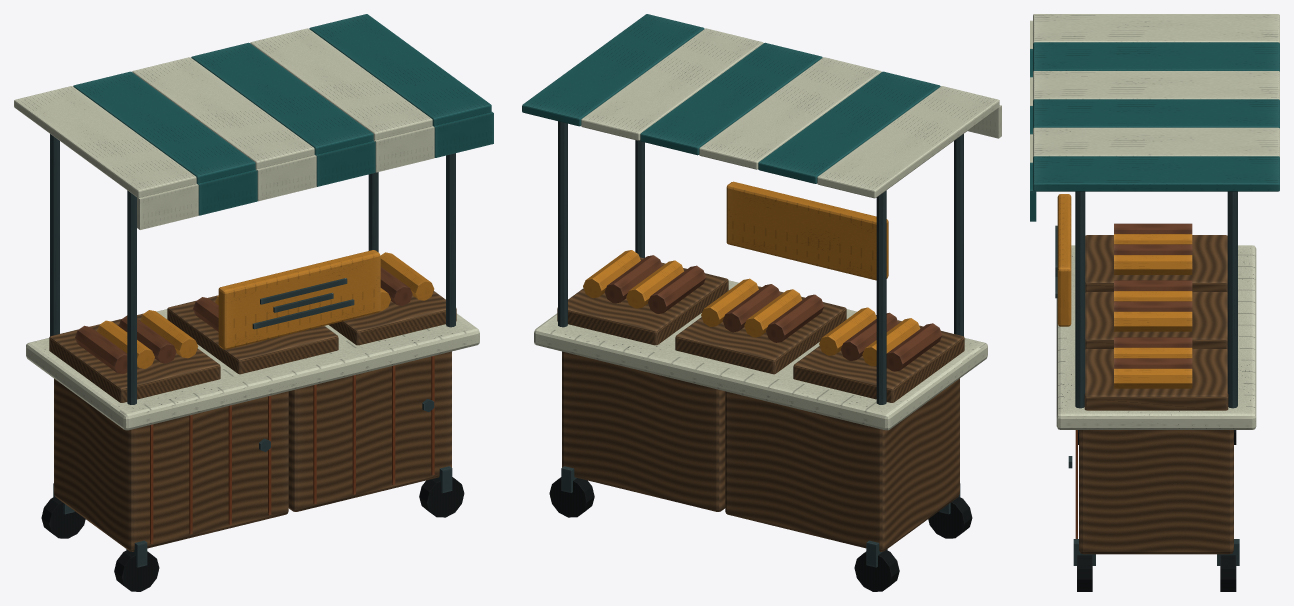
The model's file is market_stall.fbx.
3 views of the same model, side by side, from view 1: azimuth 30°, elevation 25°; view 2: azimuth 150°, elevation 25°; view 3: azimuth 270°, elevation 25° (orthographic).
Visible parts, largest first — view 1: market_stall__cupboard, market_stall__cupboard.001, market_stall__counter, market_stall__front_sale_sign, market_stall__canopy_fabric, market_stall__canopy_fabric.001, market_stall__canopy_fabric.004, market_stall__canopy_fabric.003, market_stall__canopy_fabric.002, market_stall__canopy_fabric.005, market_stall__produce_tray, market_stall__produce_tray.001 (+21 smaller); view 2: market_stall__cupboard, market_stall__cupboard.001, market_stall__counter, market_stall__front_sale_sign, market_stall__canopy_fabric, market_stall__canopy_fabric.005, market_stall__canopy_fabric.004, market_stall__canopy_fabric.001, market_stall__canopy_fabric.002, market_stall__canopy_fabric.003, market_stall__produce_tray.001, market_stall__produce_tray.002 (+20 smaller); view 3: market_stall__cupboard.001, market_stall__counter, market_stall__canopy_fabric.005, market_stall__canopy_fabric.004, market_stall__canopy_fabric.003, market_stall__canopy_fabric, market_stall__canopy_fabric.001, market_stall__canopy_fabric.002, market_stall__produce_tray.002, market_stall__produce_tray.001, market_stall__produce_tray, market_stall__canopy_post.002 (+16 smaller).
Part boxes in pixels (bbox=[...]): market_stall__cupboard: bbox=[54, 378, 288, 551]; market_stall__cupboard.001: bbox=[288, 351, 451, 511]; market_stall__counter: bbox=[26, 309, 479, 430]; market_stall__front_sale_sign: bbox=[218, 250, 380, 349]; market_stall__canopy_fabric: bbox=[14, 86, 196, 197]; market_stall__canopy_fabric.001: bbox=[73, 71, 255, 183]; market_stall__canopy_fabric.004: bbox=[250, 28, 432, 140]; market_stall__canopy_fabric.003: bbox=[191, 42, 373, 154]; market_stall__canopy_fabric.002: bbox=[132, 57, 314, 168]; market_stall__canopy_fabric.005: bbox=[309, 14, 491, 125]; market_stall__produce_tray: bbox=[49, 313, 220, 402]; market_stall__produce_tray.001: bbox=[167, 295, 338, 374]; market_stall__cupboard: bbox=[725, 378, 959, 551]; market_stall__cupboard.001: bbox=[562, 351, 725, 511]; market_stall__counter: bbox=[534, 280, 987, 430]; market_stall__front_sale_sign: bbox=[726, 181, 888, 280]; market_stall__canopy_fabric: bbox=[817, 86, 999, 198]; market_stall__canopy_fabric.005: bbox=[522, 14, 704, 126]; market_stall__canopy_fabric.004: bbox=[581, 28, 763, 140]; market_stall__canopy_fabric.001: bbox=[758, 71, 940, 183]; market_stall__canopy_fabric.002: bbox=[699, 57, 881, 169]; market_stall__canopy_fabric.003: bbox=[640, 42, 822, 155]; market_stall__produce_tray.001: bbox=[675, 286, 846, 374]; market_stall__produce_tray.002: bbox=[557, 257, 728, 345]; market_stall__cupboard.001: bbox=[1079, 430, 1233, 554]; market_stall__counter: bbox=[1056, 245, 1256, 429]; market_stall__canopy_fabric.005: bbox=[1033, 156, 1279, 191]; market_stall__canopy_fabric.004: bbox=[1033, 127, 1279, 156]; market_stall__canopy_fabric.003: bbox=[1033, 99, 1279, 128]; market_stall__canopy_fabric: bbox=[1033, 14, 1279, 43]; market_stall__canopy_fabric.001: bbox=[1033, 42, 1279, 71]; market_stall__canopy_fabric.002: bbox=[1033, 71, 1279, 100]; market_stall__produce_tray.002: bbox=[1084, 349, 1228, 410]; market_stall__produce_tray.001: bbox=[1085, 292, 1227, 349]; market_stall__produce_tray: bbox=[1085, 235, 1227, 292]; market_stall__canopy_post.002: bbox=[1075, 191, 1085, 408].
Size of the model in its own units: 362 by 411 by 223.
8 materials, 8 textured.
